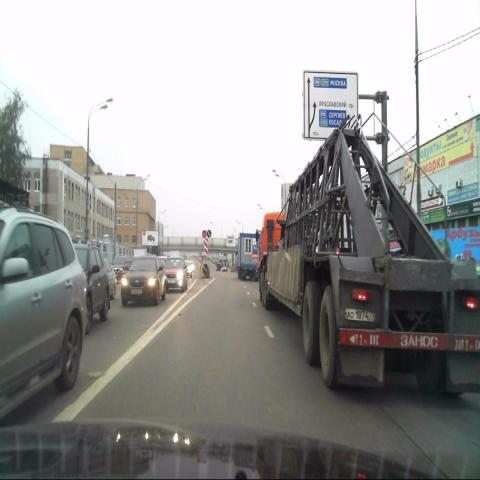4_2_1: (202, 263, 208, 275)
